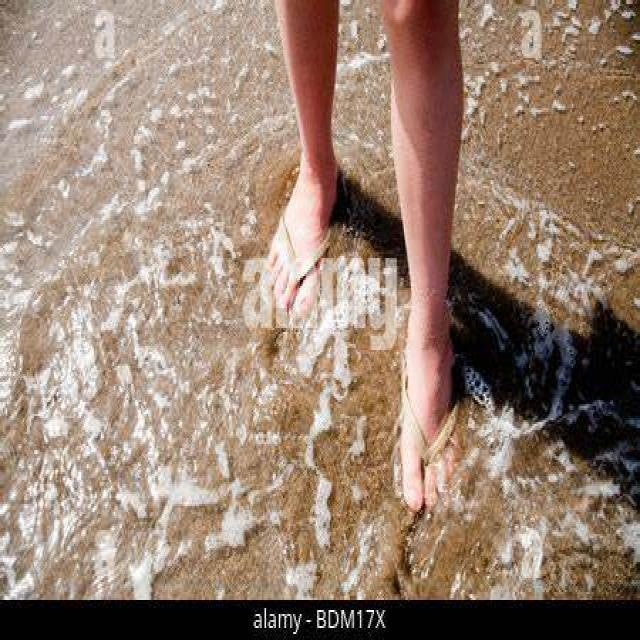No_Shoe: (263, 164, 351, 322), (392, 318, 461, 519)
